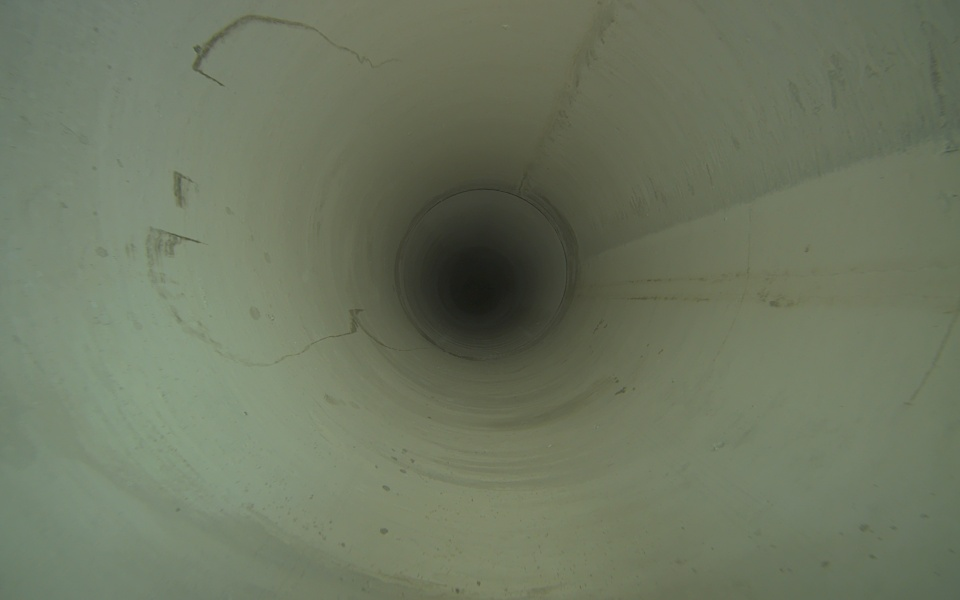circle1: (392, 183, 572, 366)
circle2: (461, 272, 496, 307)
